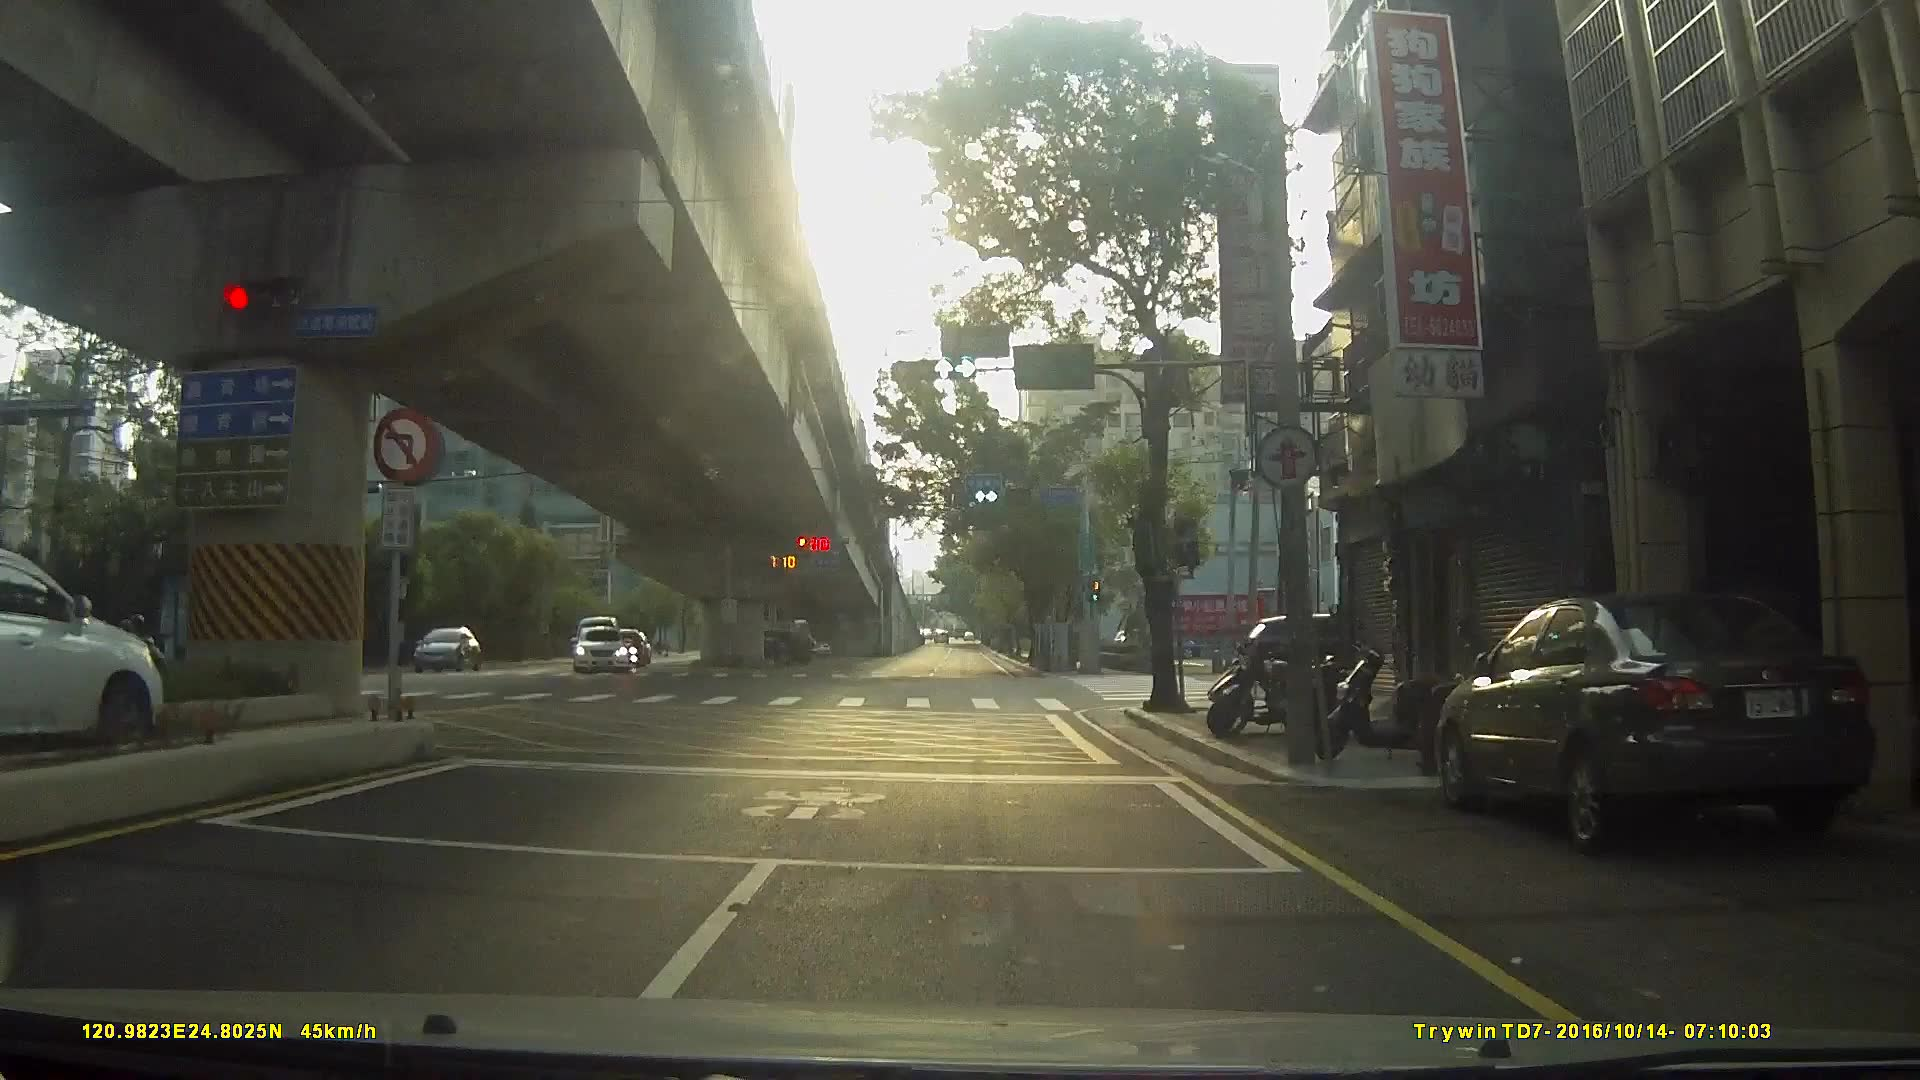vehicle: (1418, 578, 1886, 865), (1, 551, 187, 756), (404, 622, 477, 673), (745, 625, 815, 669), (567, 624, 628, 673)
